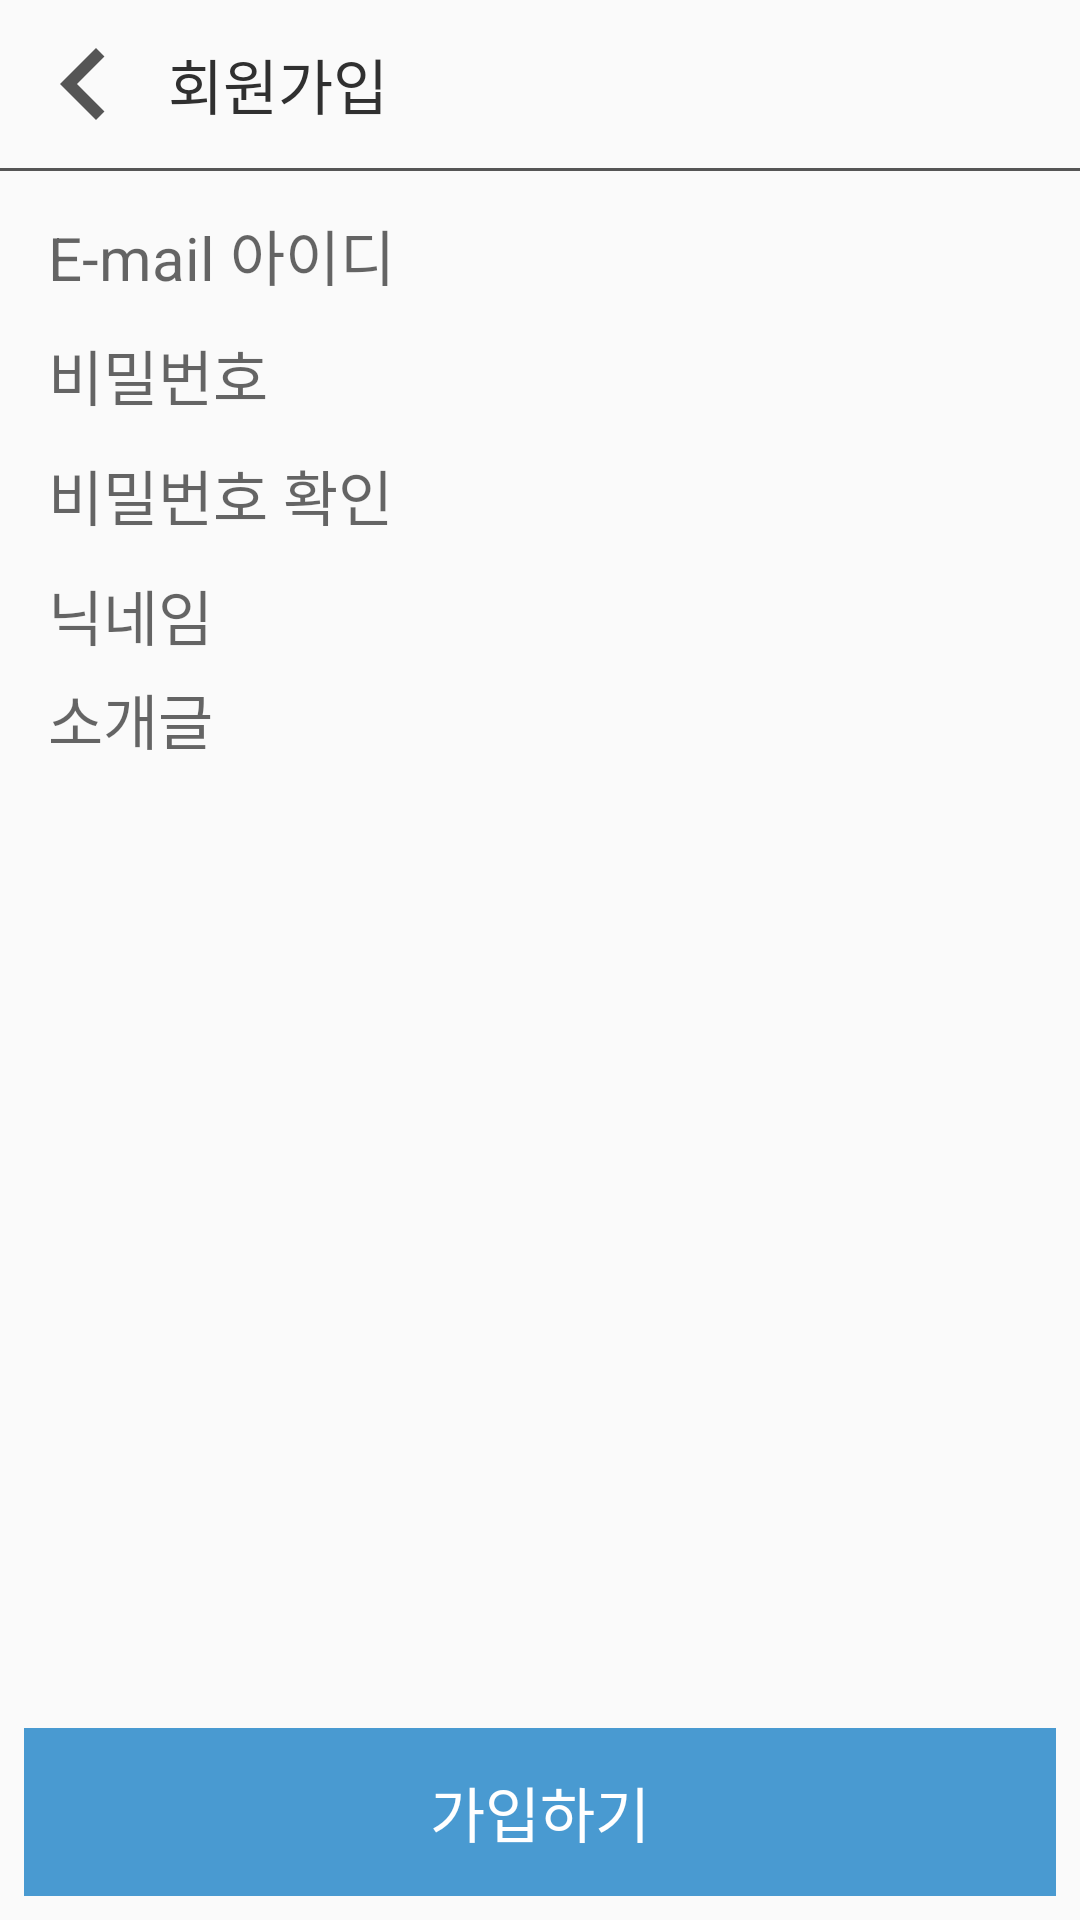

Locate icon controls on the screen. Image size 1080w x 1920h, boxes as (x1, y1, x2, y2).
chevron left darkgray: (60, 48, 105, 120)
